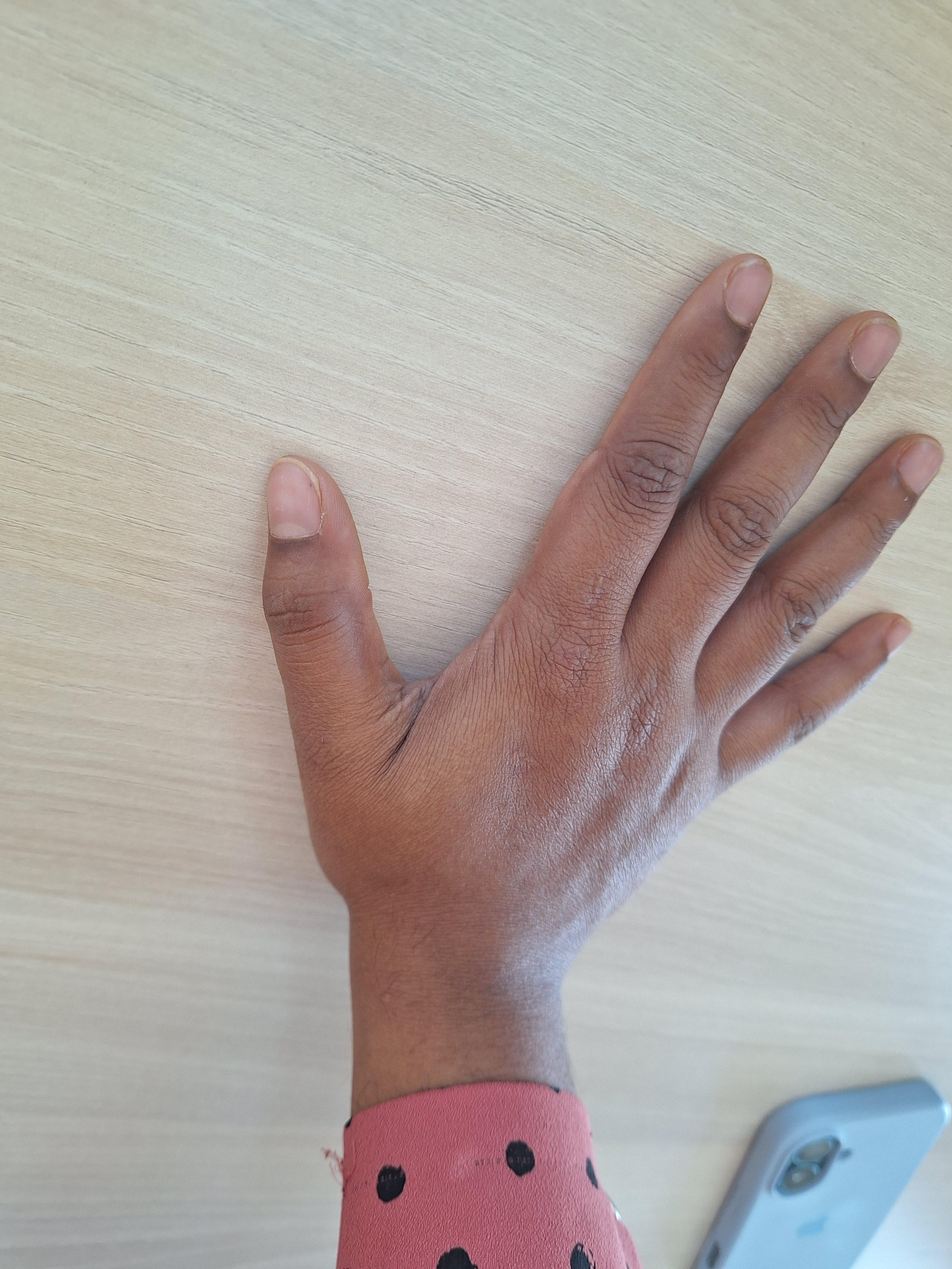Fingernail: (267, 458, 322, 539), (850, 317, 903, 380), (725, 260, 773, 329), (897, 438, 945, 494), (885, 617, 913, 656)
